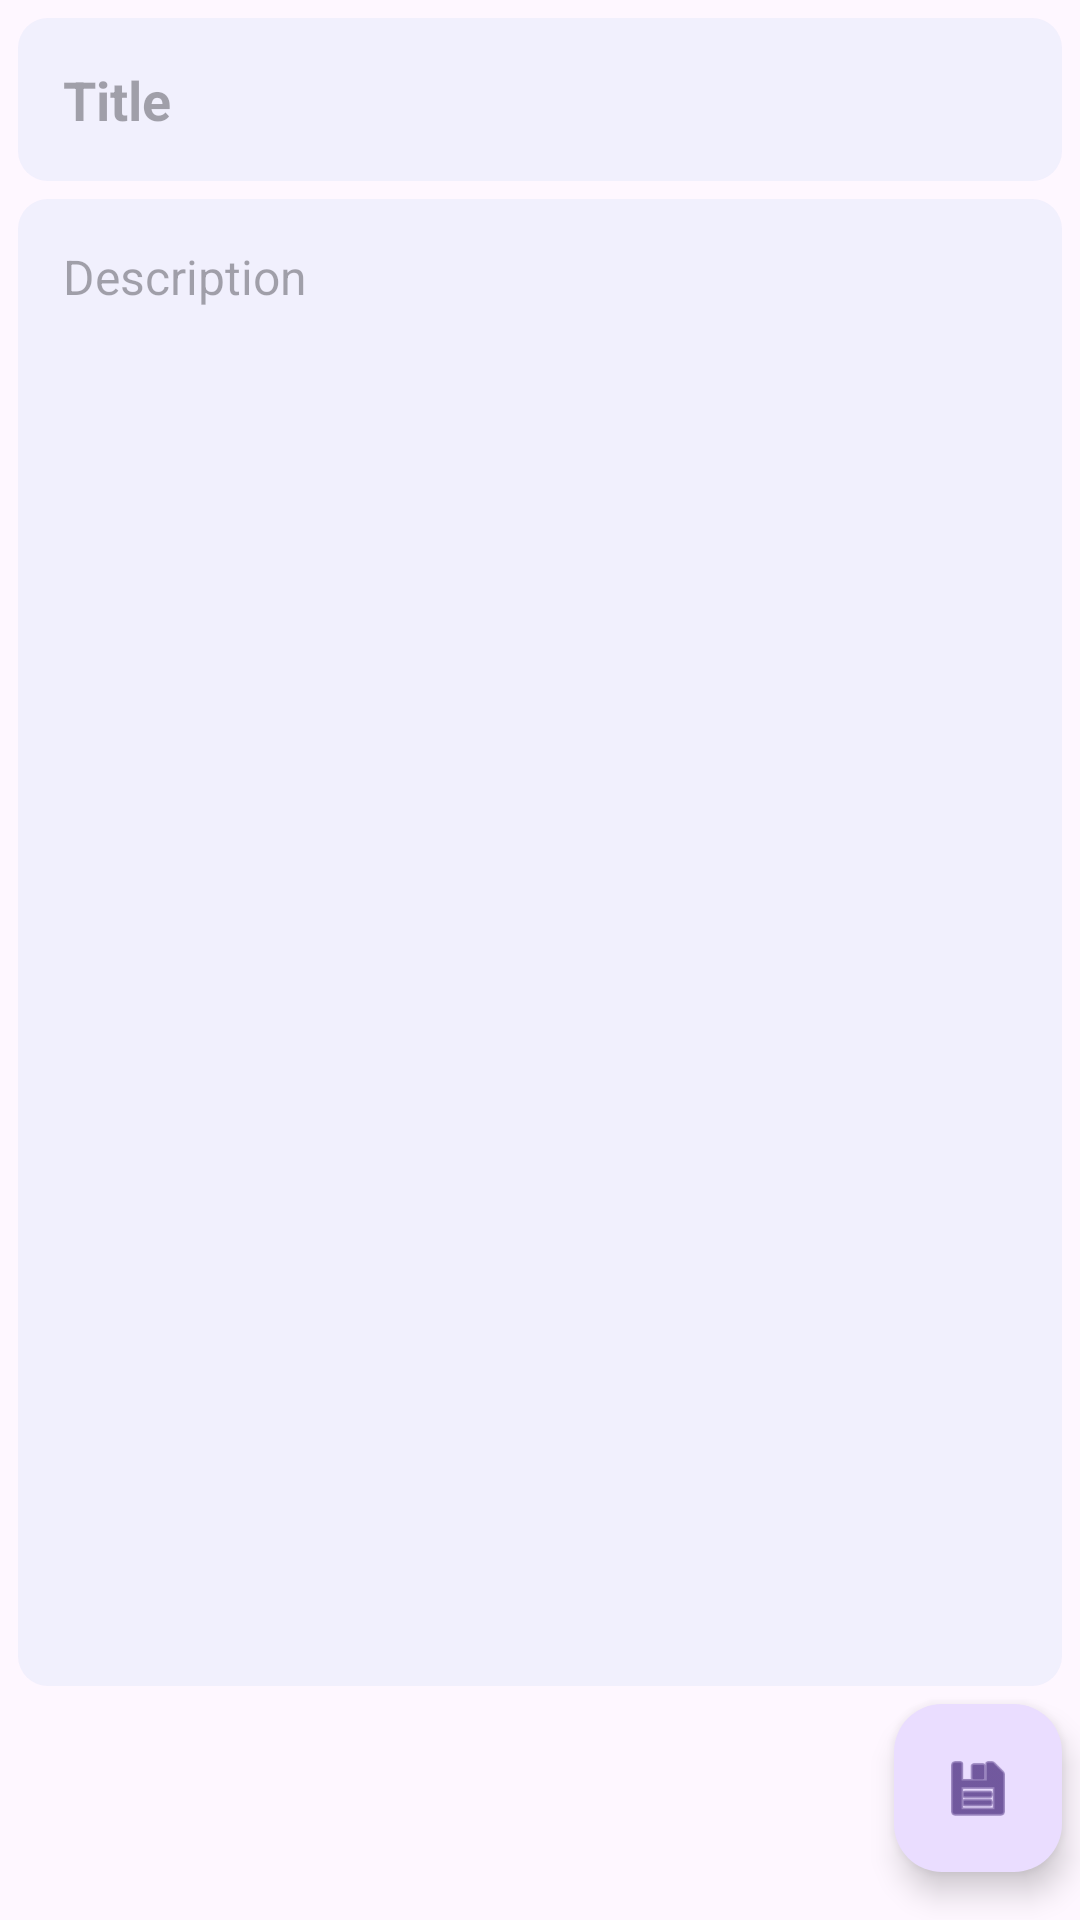

Icon click points for this 1080*1920 phone screenshot, format point (x, y):
save: point (978, 1788)
